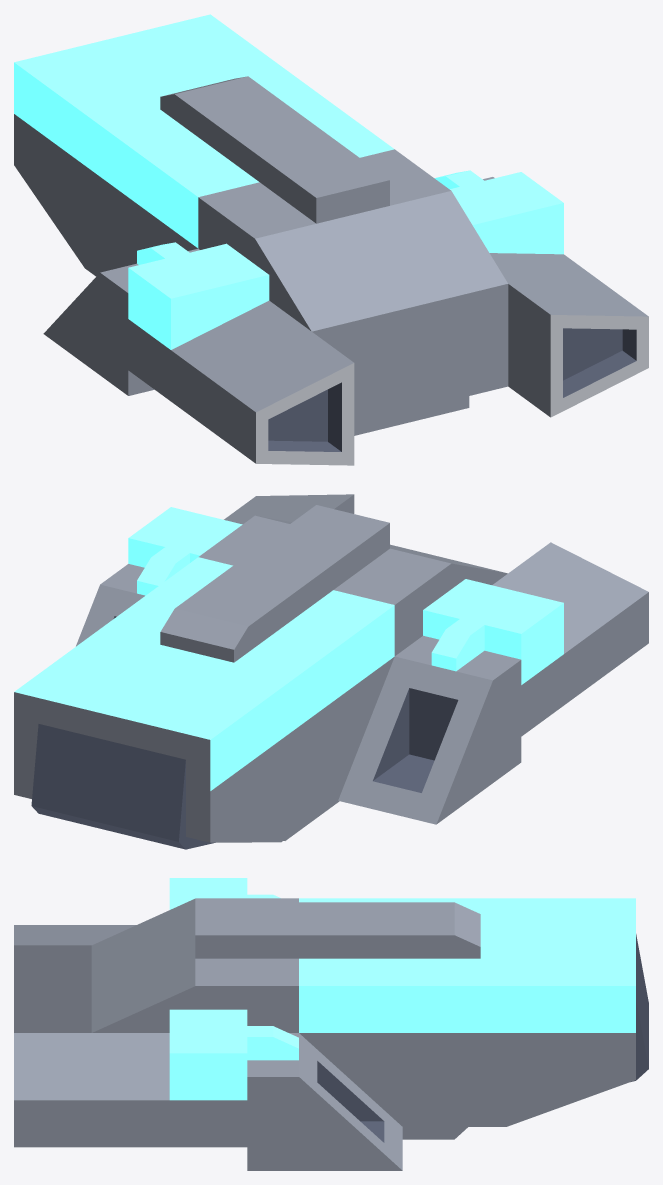
The model's file is craft_cargoA.glb.
3 views of the same model, one above another, from view 1: azimuth 30°, elevation 25°; view 2: azimuth 150°, elevation 25°; view 3: azimuth 270°, elevation 25° (orthographic). The views are drawn at different scales.
Visible parts, largest first — view 1: craft_cargoA; view 2: craft_cargoA; view 3: craft_cargoA.
Part boxes in pixels (bbox=[...]): craft_cargoA: bbox=[14, 14, 648, 465]; craft_cargoA: bbox=[14, 494, 648, 849]; craft_cargoA: bbox=[14, 878, 648, 1170].
Size of the model in its own units: 1.6 by 0.8 by 2.45.
